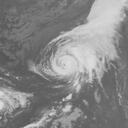cyclone: (36, 22, 116, 86)
